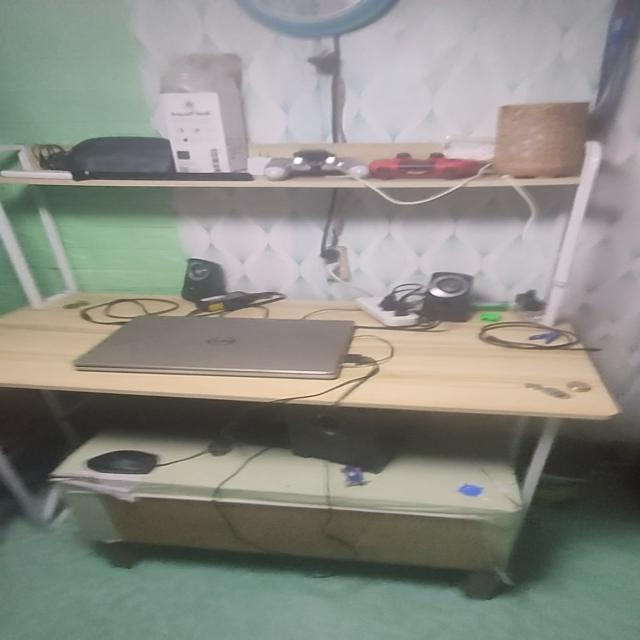table: (0, 287, 634, 600)
